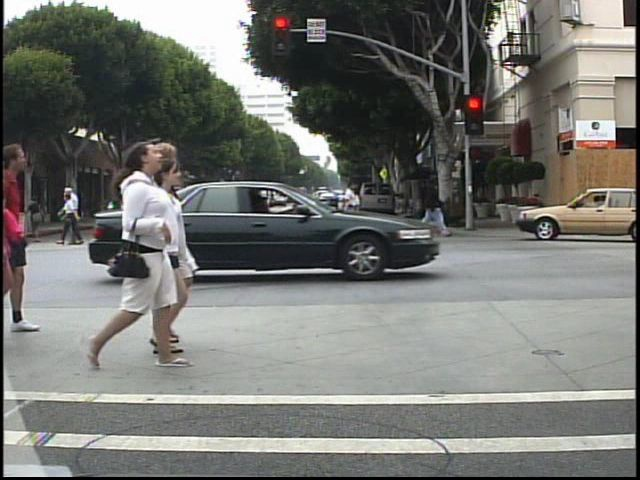person: (93, 139, 189, 379), (133, 157, 198, 367), (151, 144, 209, 351), (414, 167, 449, 240), (338, 177, 365, 241), (166, 186, 190, 249), (60, 191, 86, 249), (220, 182, 243, 240), (62, 185, 83, 247), (346, 187, 362, 223)
